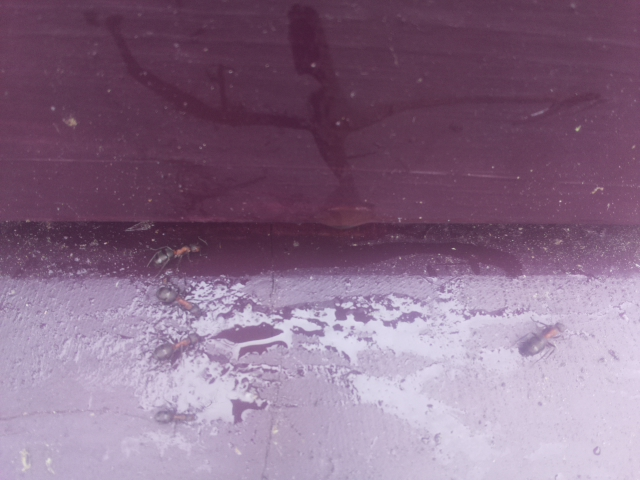ant: (519, 315, 570, 362), (145, 331, 211, 363), (143, 239, 209, 268), (148, 283, 201, 315)
